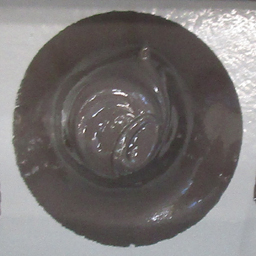perfect: (7, 9, 247, 249)
